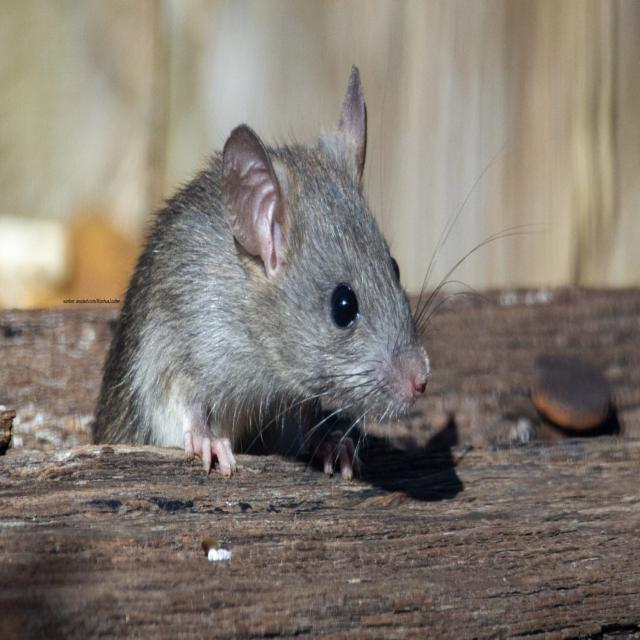rat: (75, 59, 440, 478)
